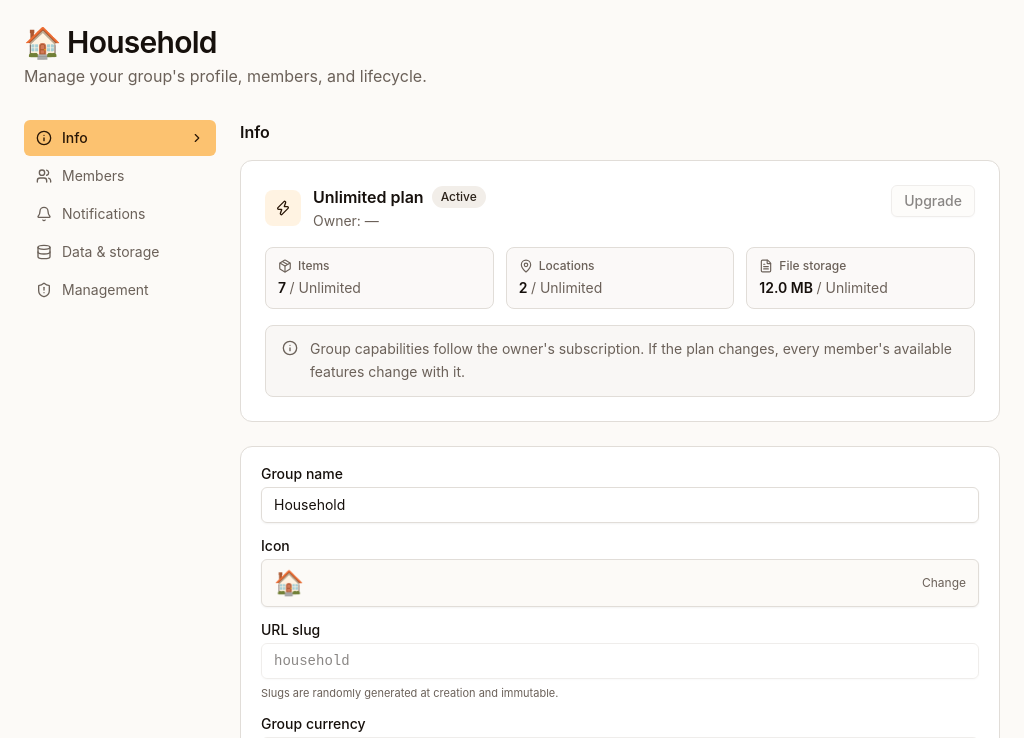
Test: <GroupSettingsPage /> › renders the Notifications card with the effective toggle state
Click the button with test id "group-settings-nav-notifications".
click(120, 214)  # box [24, 196, 216, 232]
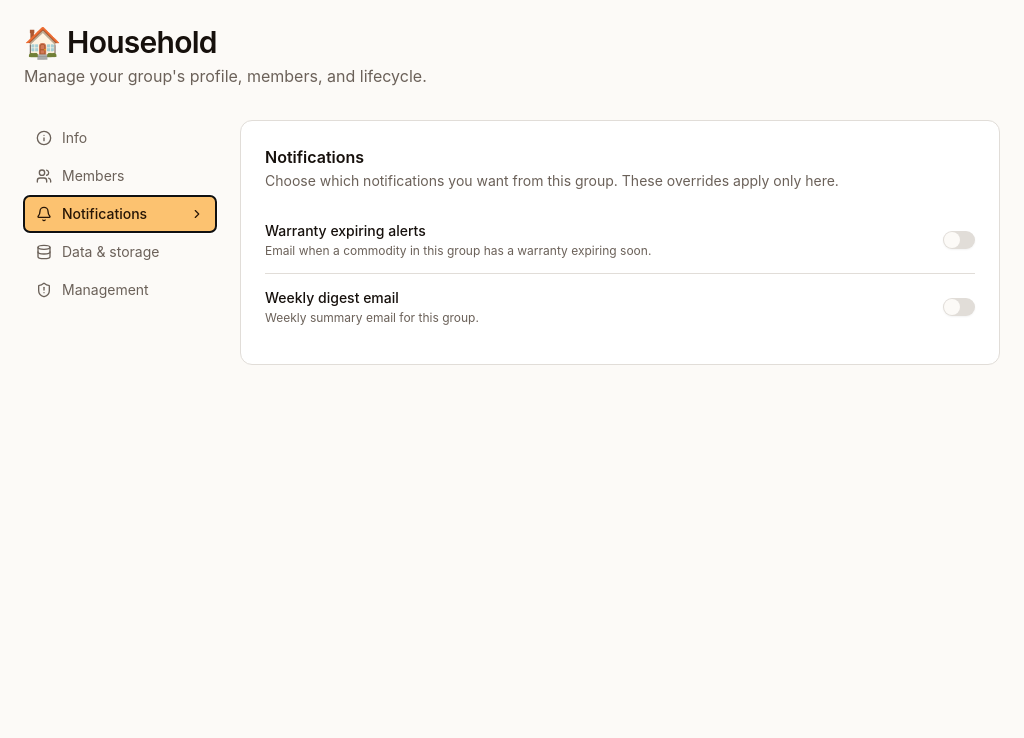
Expected: the element with test id "notifications-card" is shown, [240, 120, 1000, 365]
